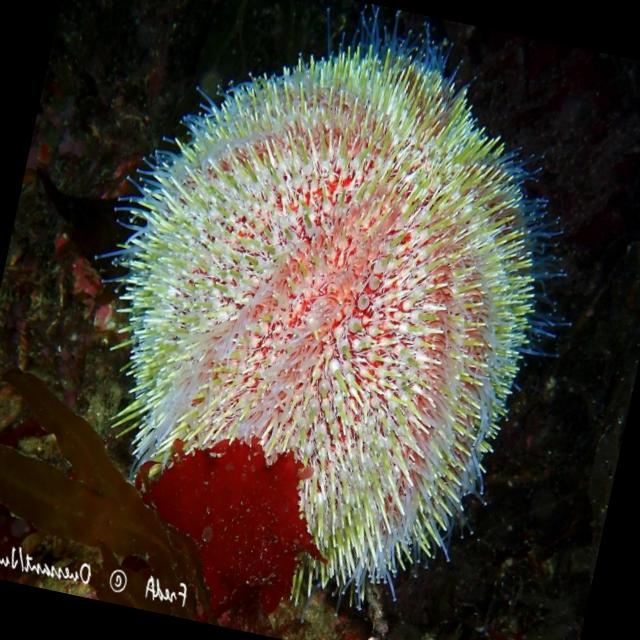Deniz Kestanesi: (33, 0, 630, 640)
